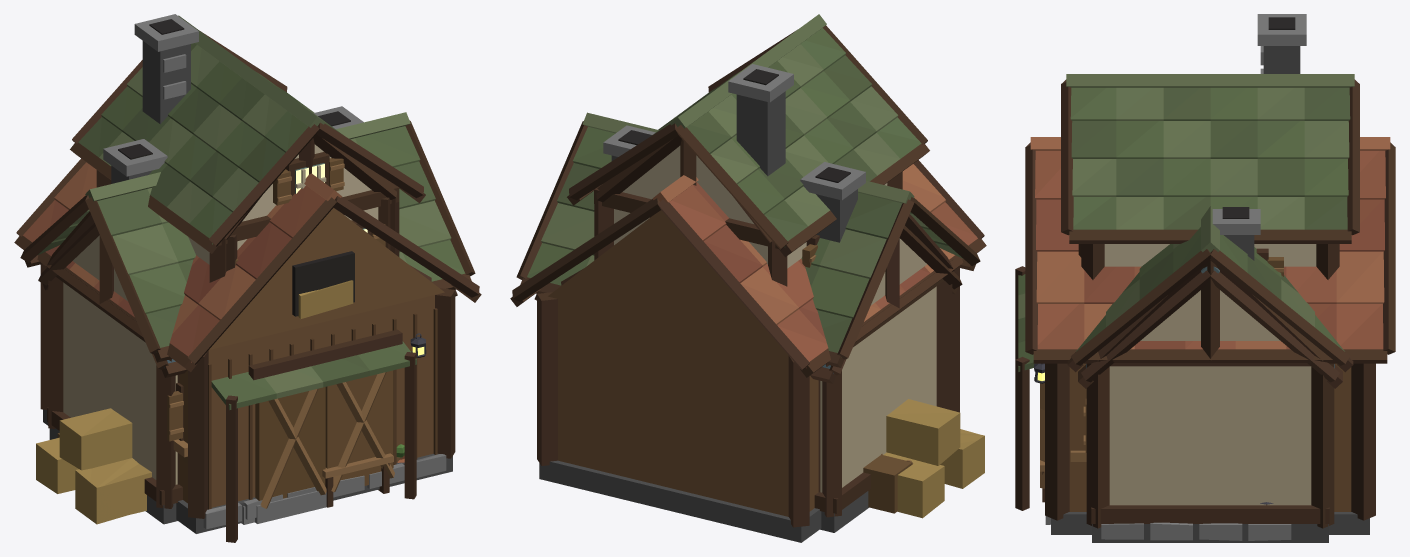
File: town_homes.glb
3 renders of one model, left to right at view 1: azimuth 30°, elevation 25°; view 2: azimuth 150°, elevation 25°; view 3: azimuth 270°, elevation 25°, orthographic. The views are drawn at different scales.
Parts seen in each view (by area): view 1: town_barn_a, town_cottage_d, town_cottage_c, town_cottage_b; view 2: town_barn_a, town_cottage_d, town_cottage_c, town_cottage_b; view 3: town_cottage_d, town_cottage_c, town_barn_a, town_cottage_b.
Part boxes in pixels (left/top/right/bottom): town_barn_a: left=14, top=158, right=481, bottom=533; town_cottage_d: left=20, top=112, right=475, bottom=542; town_cottage_c: left=70, top=14, right=425, bottom=523; town_cottage_b: left=38, top=106, right=457, bottom=484; town_barn_a: left=510, top=160, right=986, bottom=542; town_cottage_d: left=516, top=112, right=980, bottom=532; town_cottage_c: left=567, top=14, right=929, bottom=286; town_cottage_b: left=534, top=125, right=962, bottom=513; town_cottage_d: left=1015, top=206, right=1353, bottom=542; town_cottage_c: left=1061, top=14, right=1359, bottom=279; town_barn_a: left=1025, top=137, right=1395, bottom=534; town_cottage_b: left=1078, top=207, right=1342, bottom=388.
Size of the model in its own units: 4.16 by 4.58 by 3.72.
